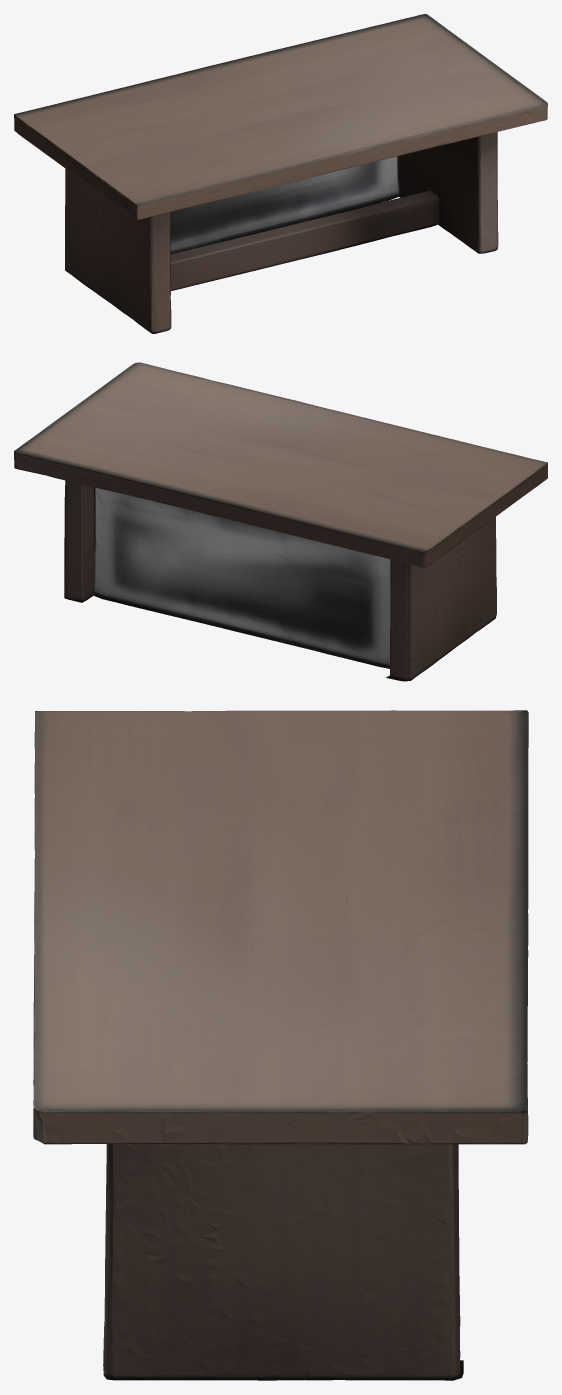
3 views of the same model, one above another, from view 1: azimuth 30°, elevation 25°; view 2: azimuth 150°, elevation 25°; view 3: azimuth 270°, elevation 25° (orthographic). The views are drawn at different scales.
Visible parts, largest first — view 1: world; view 2: world; view 3: world.
Part boxes in pixels (bbox=[...]): world: bbox=[14, 14, 547, 333]; world: bbox=[14, 362, 547, 681]; world: bbox=[33, 710, 528, 1380].
Bounding box in the file's own units: 1 × 0.3537 × 0.5211.
Materials: 1 (1 with a texture image).
